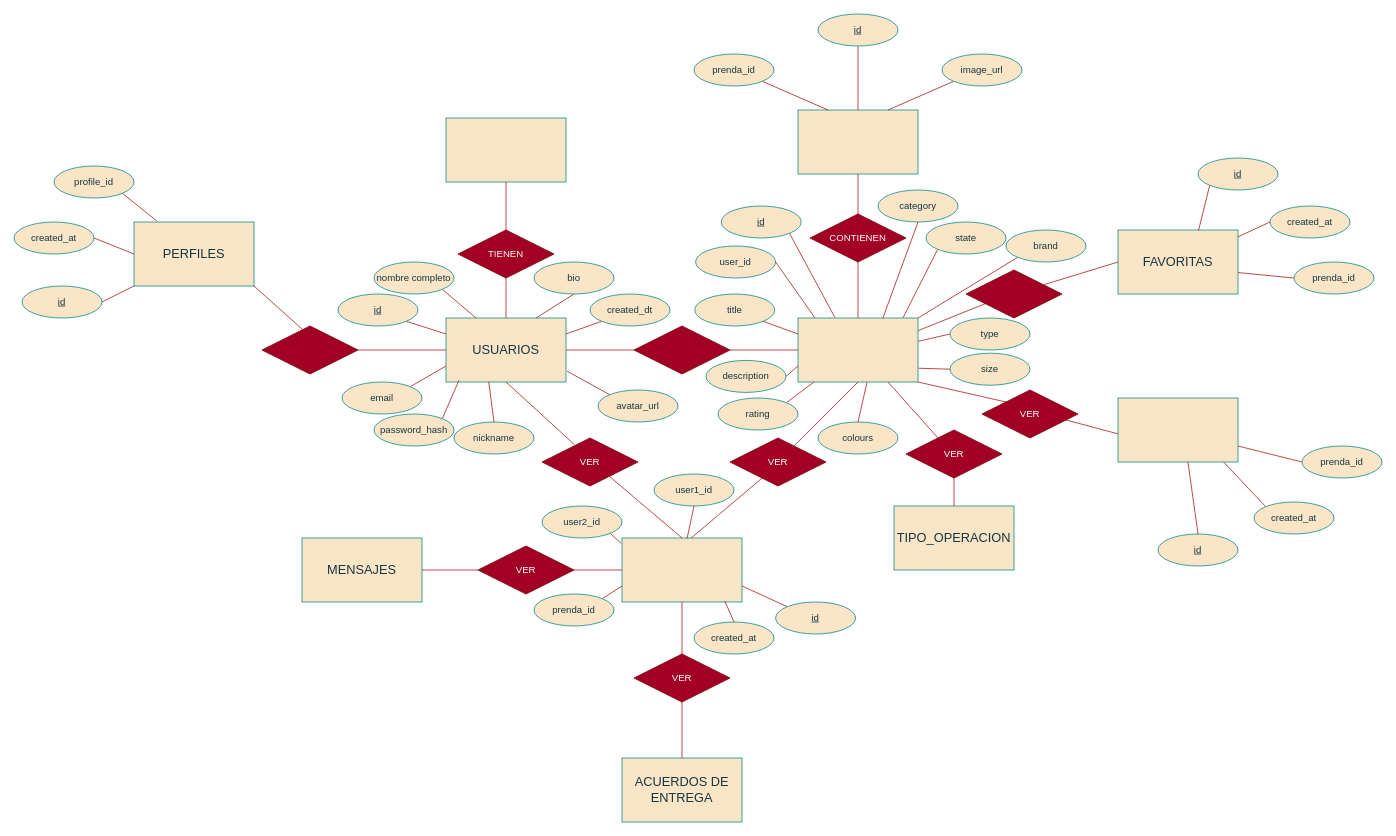
Image size: 1396x836. Some labels were removed from this diagram. The shapes that lost their labels are listed below. From the top down, each one's centre as x and y in pixels, then its label:
the point at 505,149: VALORACIONES
the point at 857,141: IMÁGENES DE PRENDAS
the point at 1013,293: CLASIFICADAS
the point at 309,349: GUARDAN
the point at 681,349: SUBEN
the point at 857,349: PRENDAS
the point at 1177,429: MÁS TARDE
the point at 681,569: CHAT
